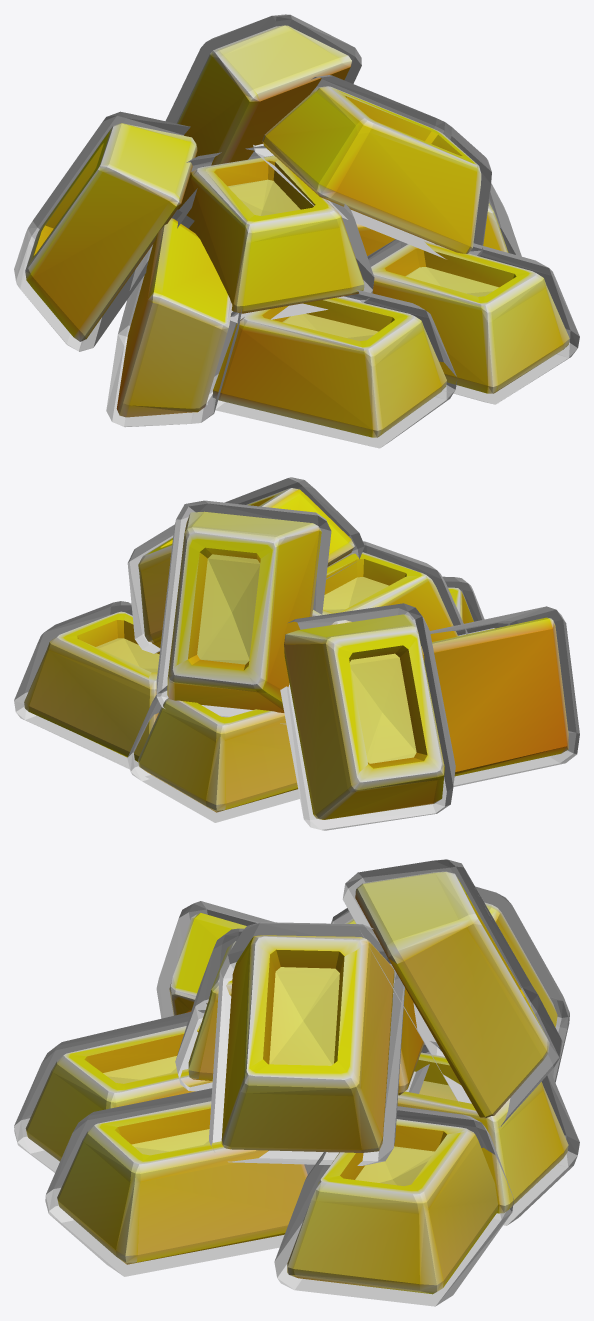
The model's file is GoldPile.glb.
The picture shows the model from 3 angles, top to bottom: view 1: azimuth 30°, elevation 25°; view 2: azimuth 150°, elevation 25°; view 3: azimuth 270°, elevation 25°; orthographic projection. The views are drawn at different scales.
Parts seen in each view (by area): view 1: GoldPile; view 2: GoldPile; view 3: GoldPile.
Part boxes in pixels (<box>): GoldPile: <box>14,14,579,448</box>; GoldPile: <box>14,477,579,830</box>; GoldPile: <box>14,859,579,1306</box>.
Size of the model in its own units: 0.9873 by 0.5315 by 0.887.
